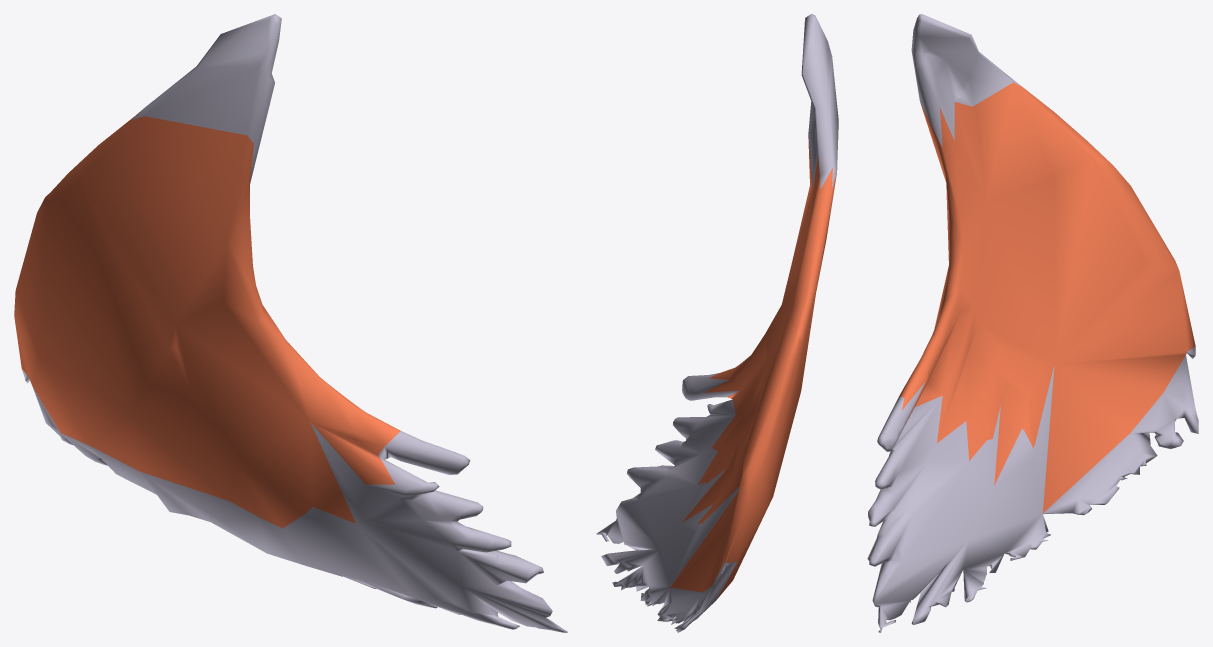
Rendered from Depressor_anguli_oris.r_Generated_Mesh_From_X3D.987.glb.
3 renders of one model, left to right at view 1: azimuth 30°, elevation 25°; view 2: azimuth 150°, elevation 25°; view 3: azimuth 270°, elevation 25°, orthographic. The views are drawn at different scales.
Visible parts, largest first — view 1: Depressor_anguli_oris.r_Generated_Mesh_From_X3D.987; view 2: Depressor_anguli_oris.r_Generated_Mesh_From_X3D.987; view 3: Depressor_anguli_oris.r_Generated_Mesh_From_X3D.987.
Part boxes in pixels (x1=…): Depressor_anguli_oris.r_Generated_Mesh_From_X3D.987: x1=14, y1=14, x2=567, y2=632; Depressor_anguli_oris.r_Generated_Mesh_From_X3D.987: x1=596, y1=14, x2=838, y2=632; Depressor_anguli_oris.r_Generated_Mesh_From_X3D.987: x1=867, y1=14, x2=1198, y2=632.
Bounding box in the file's own units: 0.0244 × 0.0417 × 0.024.
